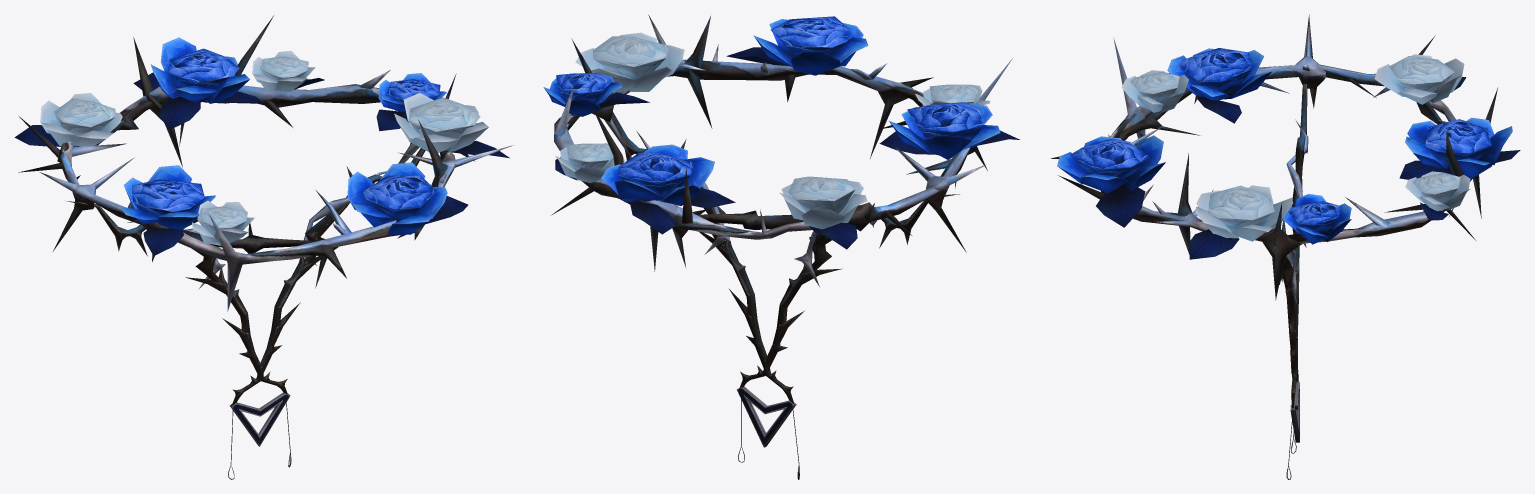
The model's file is valentine_parachute.glb.
3 renders of one model, left to right at view 1: azimuth 30°, elevation 25°; view 2: azimuth 150°, elevation 25°; view 3: azimuth 270°, elevation 25°, orthographic. The views are drawn at different scales.
Parts seen in each view (by area): view 1: Parachute_Valentine25; view 2: Parachute_Valentine25; view 3: Parachute_Valentine25.
Part boxes in pixels (x1,y1,x2,y2): Parachute_Valentine25: (14,15,512,479); Parachute_Valentine25: (543,15,1019,479); Parachute_Valentine25: (1050,14,1520,479).
Size of the model in its own units: 2.85 by 2.47 by 2.76.
Materials: 1 (1 with a texture image).
